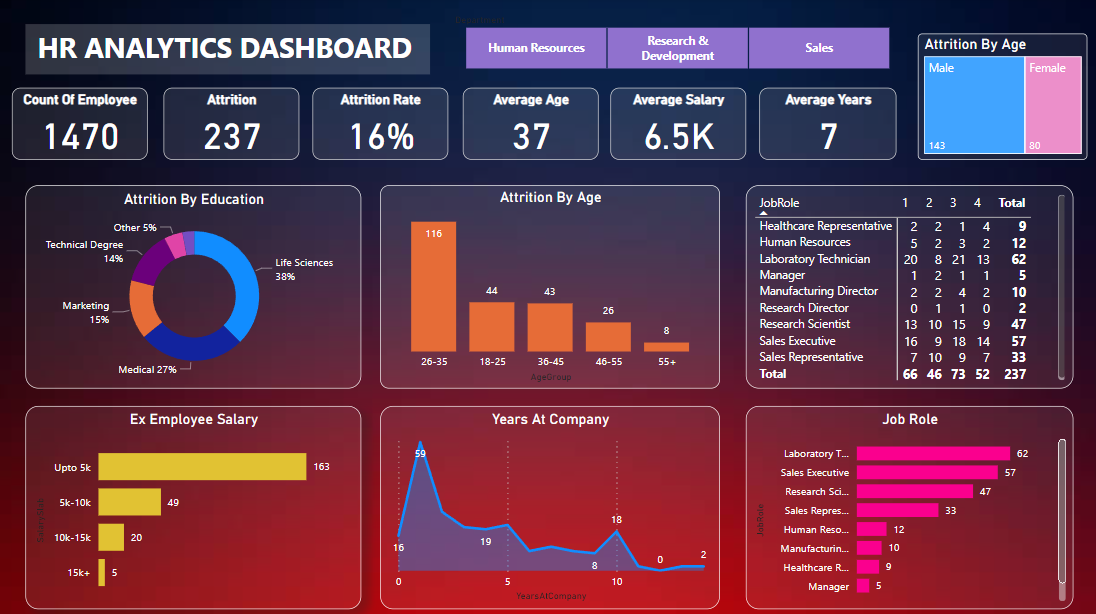

The page's visual inventory and layout, read from the dashboard file:
{"tool":"powerbi","page":{"name":"Page 1","canvas":[1280,720],"ordinal":0},"visuals":[{"type":"card","title":"Count Of Employee","fields":{"Values":["CountNonNull(HR_Analytics.EmpID)"]},"box":[17.3,105.1,156.9,83.2],"z":0},{"type":"card","title":"Attrition","fields":{"Values":["Sum(HR_Analytics.AttritionCount)"]},"box":[193,105.1,156.9,83.2],"z":1000},{"type":"card","title":"Attrition Rate","fields":{"Values":["HR_Analytics.AttritionRate"]},"box":[365.7,105.1,156.9,83.2],"z":2000},{"type":"card","title":"Average Age","fields":{"Values":["Avg(HR_Analytics.Age)"]},"box":[539.8,105.1,156.9,83.2],"z":3000},{"type":"card","title":"Average Salary","fields":{"Values":["Avg(HR_Analytics.MonthlyIncome)"]},"box":[710.9,105.1,156.9,83.2],"z":4000},{"type":"card","title":"Average Years","fields":{"Values":["Avg(HR_Analytics.YearsAtCompany)"]},"box":[883.5,105.1,158.5,83.2],"z":5000},{"type":"donutChart","title":"Attrition By Education","fields":{"Category":["HR_Analytics.EducationField"],"Y":["Sum(HR_Analytics.AttritionCount)"]},"box":[33,218.1,389.2,235.4],"z":6000},{"type":"columnChart","title":"Attrition By Age","fields":{"Category":["HR_Analytics.AgeGroup"],"Y":["Sum(HR_Analytics.AttritionCount)"]},"box":[444.1,218.1,393.9,235.4],"z":7000},{"type":"pivotTable","fields":{"Rows":["HR_Analytics.JobRole"],"Columns":["HR_Analytics.JobSatisfaction"],"Values":["Sum(HR_Analytics.AttritionCount)"]},"box":[867.8,218.1,379.8,235.4],"z":8000},{"type":"barChart","title":"Ex Employee Salary","fields":{"Category":["HR_Analytics.SalarySlab"],"Y":["Sum(HR_Analytics.AttritionCount)"]},"box":[33,473.9,389.2,235.4],"z":9000},{"type":"barChart","title":"Job Role","fields":{"Category":["HR_Analytics.JobRole"],"Y":["Sum(HR_Analytics.AttritionCount)"]},"box":[867.8,473.9,379.8,235.4],"z":10000},{"type":"areaChart","title":"Years At Company","fields":{"Category":["HR_Analytics.YearsAtCompany"],"Y":["Sum(HR_Analytics.AttritionCount)"]},"box":[444.1,473.9,393.9,235.4],"z":11000},{"type":"treemap","title":"Attrition By Age","fields":{"Group":["HR_Analytics.Gender"],"Values":["Sum(HR_Analytics.AttritionCount)"]},"box":[1067.1,42.4,196.2,145.9],"z":12000},{"type":"slicer","fields":{"Values":["HR_Analytics.Department"]},"box":[517.9,14.1,539.8,75.3],"z":13000},{"type":"textbox","box":[33,31.4,469.2,58.1],"z":14000}]}

Visuals, with their boxes in screenshot pixels (x1, y1, x2, y2), scaled from the page's 1280x720 canvas onto the 1096x614 screenshot:
"Count Of Employee" card: rect(15, 90, 149, 161)
"Attrition" card: rect(165, 90, 300, 161)
"Attrition Rate" card: rect(313, 90, 447, 161)
"Average Age" card: rect(462, 90, 597, 161)
"Average Salary" card: rect(609, 90, 743, 161)
"Average Years" card: rect(756, 90, 892, 161)
"Attrition By Education" donutChart: rect(28, 186, 362, 387)
"Attrition By Age" columnChart: rect(380, 186, 718, 387)
pivotTable - HR_Analytics.JobRole x HR_Analytics.JobSatisfaction: rect(743, 186, 1068, 387)
"Ex Employee Salary" barChart: rect(28, 404, 362, 605)
"Job Role" barChart: rect(743, 404, 1068, 605)
"Years At Company" areaChart: rect(380, 404, 718, 605)
"Attrition By Age" treemap: rect(914, 36, 1082, 161)
slicer - HR_Analytics.Department: rect(443, 12, 906, 76)
textbox: rect(28, 27, 430, 76)
